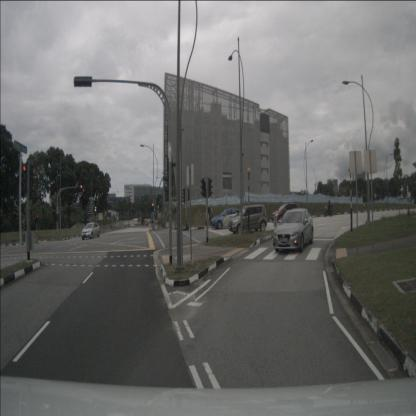cone: (406, 204, 411, 218)
